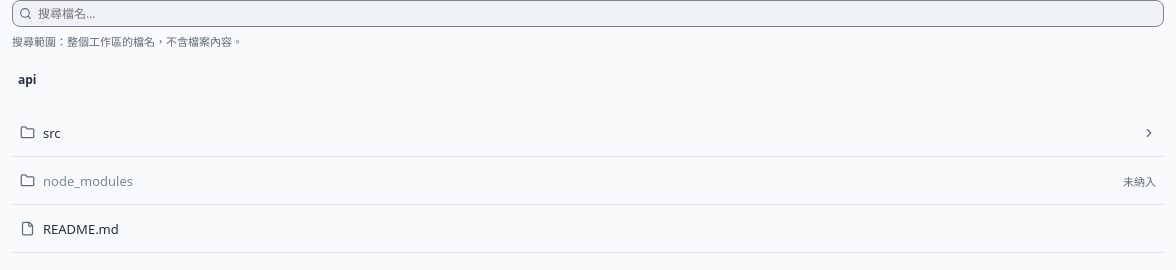
Test: FileBrowser — 逐層瀏覽 › 一次顯示一層，點資料夾往下、上一層往回
Expected: the text "app.py" is not shown
Click the button with class "entry" showing "src". click: (28, 132)
box: [12, 109, 1164, 157]
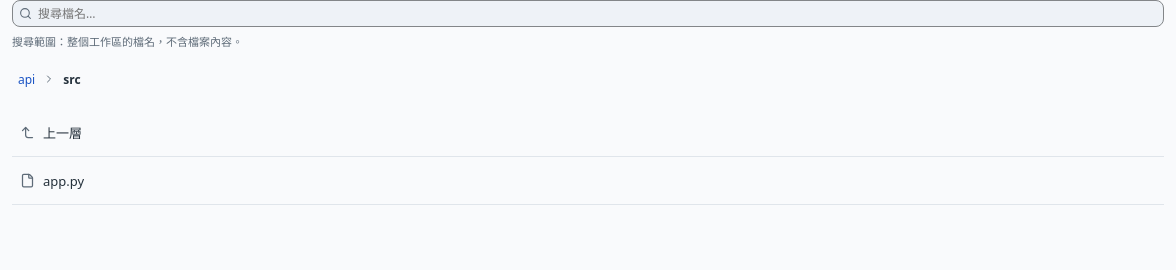
Expected: the text "app.py" is shown, [43, 172, 84, 190]
Expected: the text "README.md" is gone
Click the button with class "entry" showing "上一層". click: (63, 133)
box: [12, 109, 1164, 157]
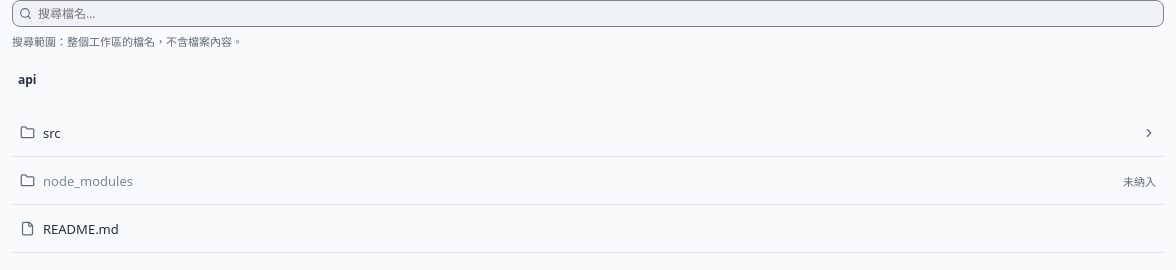
Expected: the text "README.md" is shown, [43, 220, 119, 238]
